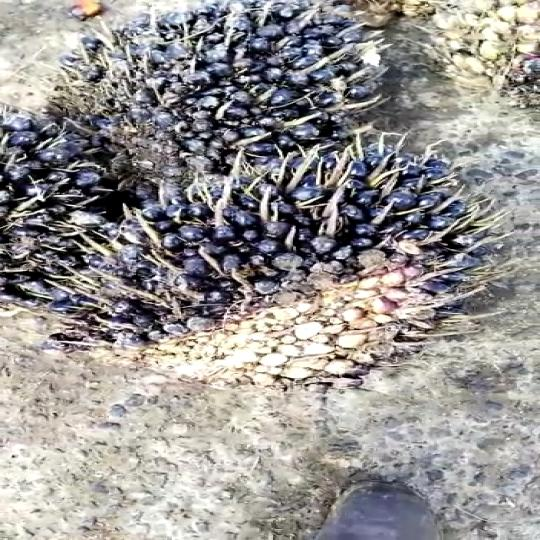mentah: (64, 150, 504, 394), (69, 1, 436, 170), (0, 107, 154, 295)
